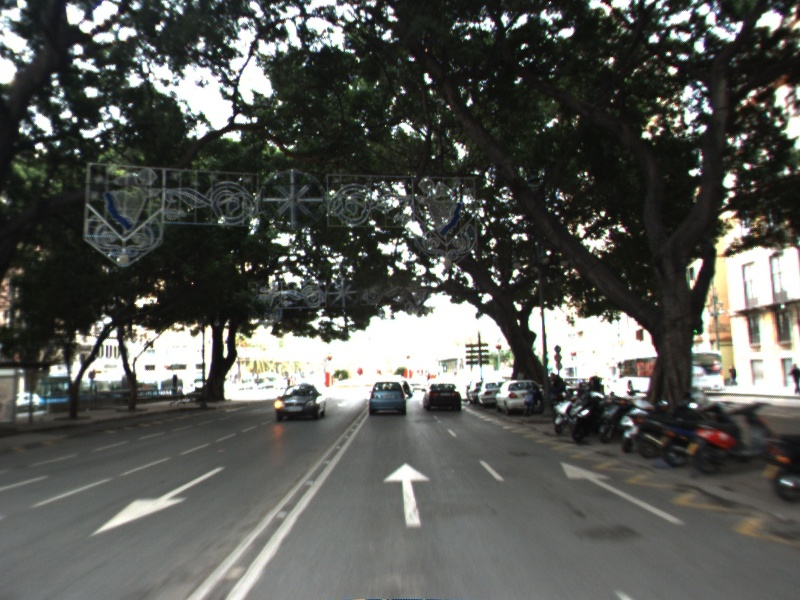STRAIGHT: (557, 459, 690, 529), (380, 460, 433, 530)
